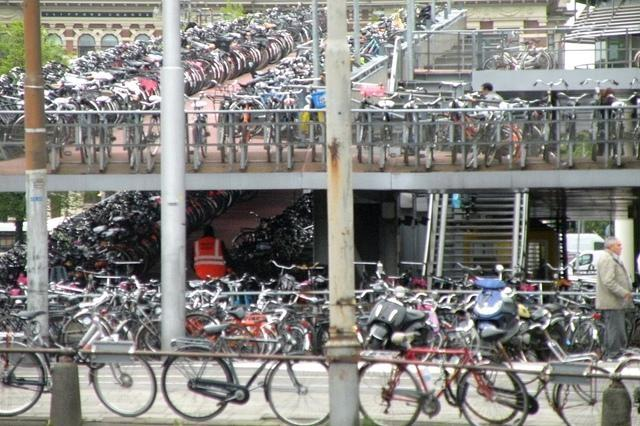bicycle: (0, 288, 157, 417), (163, 311, 331, 426), (466, 310, 612, 426), (353, 306, 477, 424), (532, 77, 569, 163), (407, 96, 447, 172), (369, 93, 404, 172), (50, 310, 116, 348), (274, 88, 304, 171), (614, 355, 638, 426), (248, 290, 311, 314), (192, 92, 210, 173), (400, 104, 417, 165)
car: (570, 249, 602, 284)
motorcycle: (362, 261, 437, 351), (460, 264, 526, 350), (372, 8, 406, 32)
